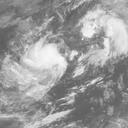cyclone: (23, 31, 95, 92)
